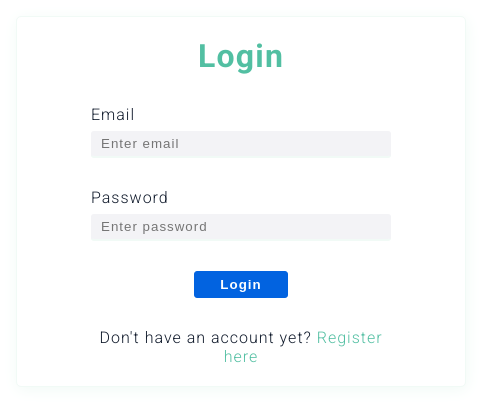
login comp › email error should be rendered in case of invalid email
Type "email" into the field labelled "Email" at (241, 144), box [91,131,391,158]
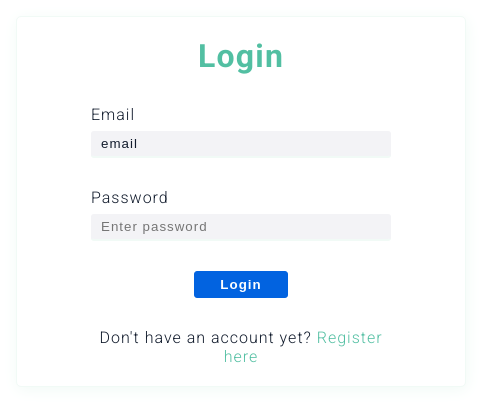
Leave the field labelled "Email", box [91,131,391,158]
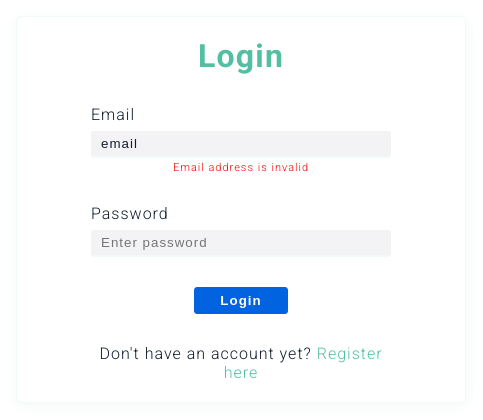
Expected: the text "Email address is invalid" is shown, [173,161,309,174]
